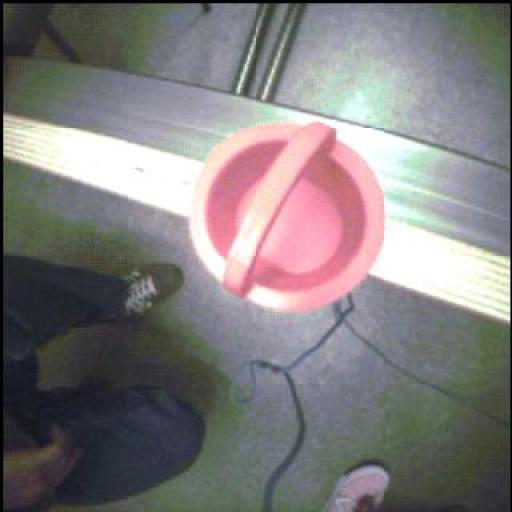Bucket: (169, 113, 405, 316)
